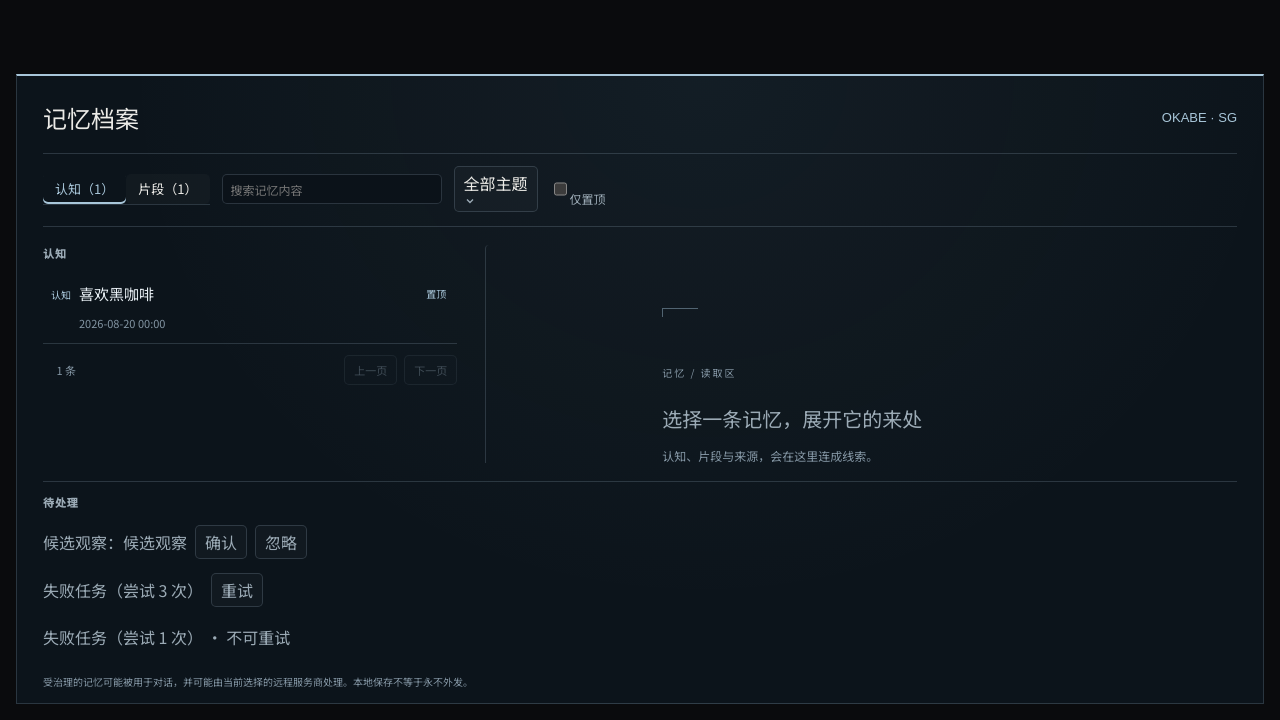
Test: ArchiveView list and reading › renders fact and experience rows with text-based pin/expiry markers
The image size is (1280, 720).
Expected: the text "喜欢黑咖啡" is shown, [79,283,154,304]
Expected: the element with test id "archive-view" shows "置顶", [43,269,457,344]
Step 1. Click the tab with test id "archive-tab-experience" → click(168, 188), box [126,174,210,204]
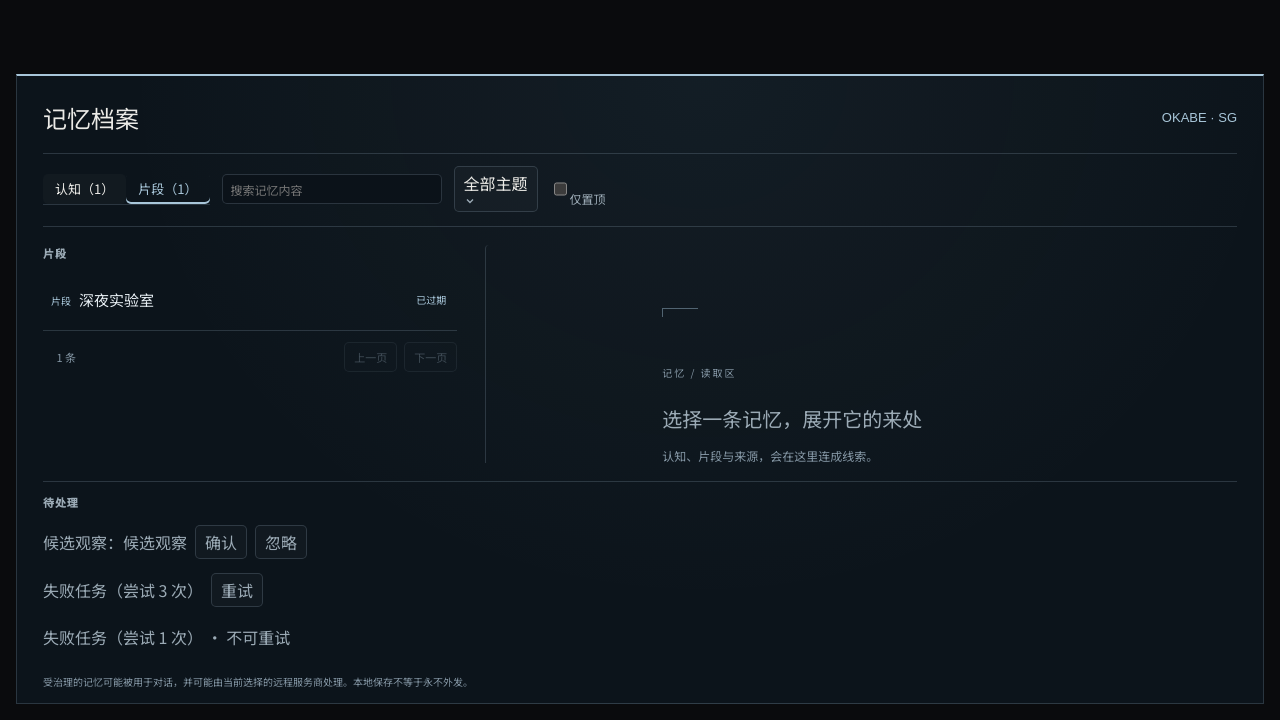
Expected: the text "深夜实验室" is shown, [79,289,154,310]
Expected: the element with test id "archive-view" shows "已过期", [43,269,457,331]
